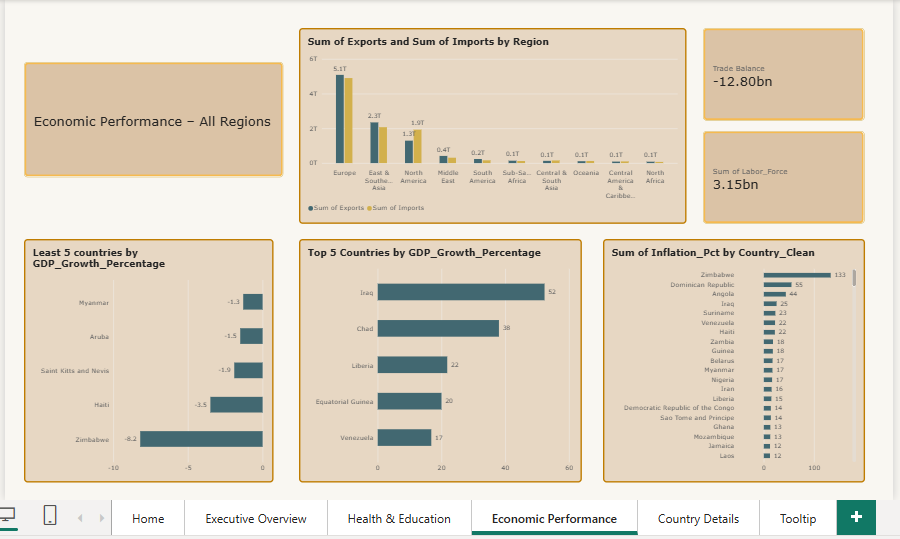

What the dashboard file says about the page in this screenshot:
{"tool":"powerbi","page":{"name":"Economic Performance","canvas":[1920,1080],"ordinal":3},"visuals":[{"type":"clusteredColumnChart","fields":{"Category":["Country_Data.Region"],"Y":["Sum(Country_Data.Exports)","Sum(Country_Data.Imports)"]},"box":[634.3,60,837.1,422.9],"z":0},{"type":"cardVisual","fields":{"Data":["Country_Data.Trade Balance"]},"box":[1508.6,60,348.6,200],"z":1000},{"type":"barChart","fields":{"Category":["Country_Data.Country_Clean"],"Y":["Sum(Country_Data.Inflation_Pct)"]},"box":[1291.4,517.1,565.7,525.7],"z":2000},{"type":"barChart","title":"Least 5 countries by GDP_Growth_Percentage","fields":{"Category":["Country_Data.Country_Clean"],"Y":["Sum(Country_Data.GDP_Growth_Pct)"]},"box":[40,517.1,539.4,525.7],"z":3000},{"type":"barChart","title":"Top 5 Countries by GDP_Growth_Percentage","fields":{"Category":["Country_Data.Country_Clean"],"Y":["Sum(Country_Data.GDP_Growth_Pct)"]},"box":[634.3,517.1,611.4,525.7],"z":4000},{"type":"cardVisual","fields":{"Data":["Sum(Country_Data.Labor_Force)"]},"box":[1508.6,282.9,348.6,200],"z":5000},{"type":"cardVisual","fields":{"Data":["Country_Data.Title Economic"]},"box":[40,134.3,560,248.6],"z":6000}]}

Visuals, with their boxes in screenshot pixels (x1, y1, x2, y2):
clusteredColumnChart - Country_Data.Region x Sum(Country_Data.Exports): [296,25,683,221]
cardVisual - Country_Data.Trade Balance: [700,25,861,118]
barChart - Country_Data.Country_Clean x Sum(Country_Data.Inflation_Pct): [599,237,861,480]
"Least 5 countries by GDP_Growth_Percentage" barChart: [21,237,270,480]
"Top 5 Countries by GDP_Growth_Percentage" barChart: [296,237,578,480]
cardVisual - Sum(Country_Data.Labor_Force): [700,128,861,221]
cardVisual - Country_Data.Title Economic: [21,60,280,175]
